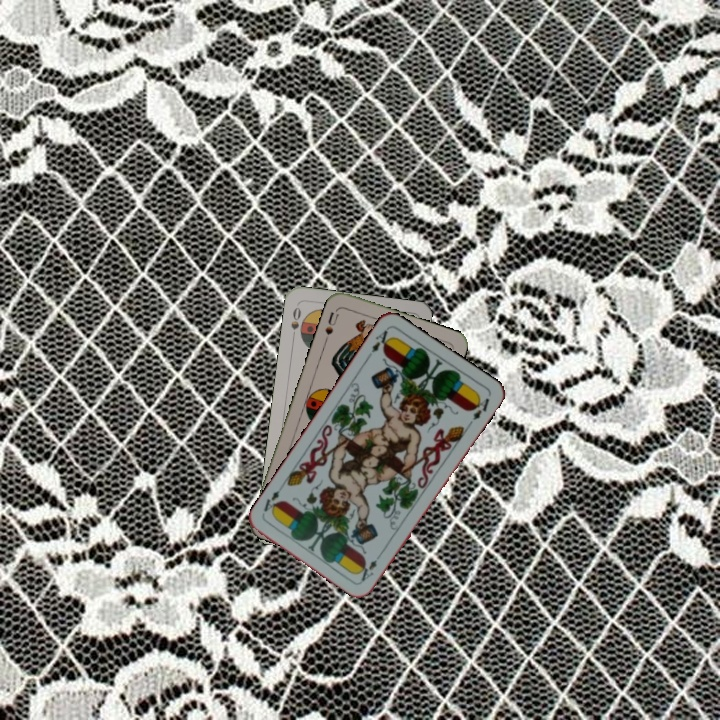EA: (363, 326, 394, 361), (357, 548, 385, 584)
SO: (287, 301, 303, 341)
SU: (321, 308, 341, 344)
